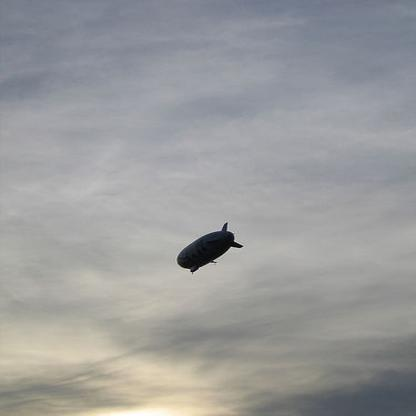Airship: (176, 220, 245, 276)
